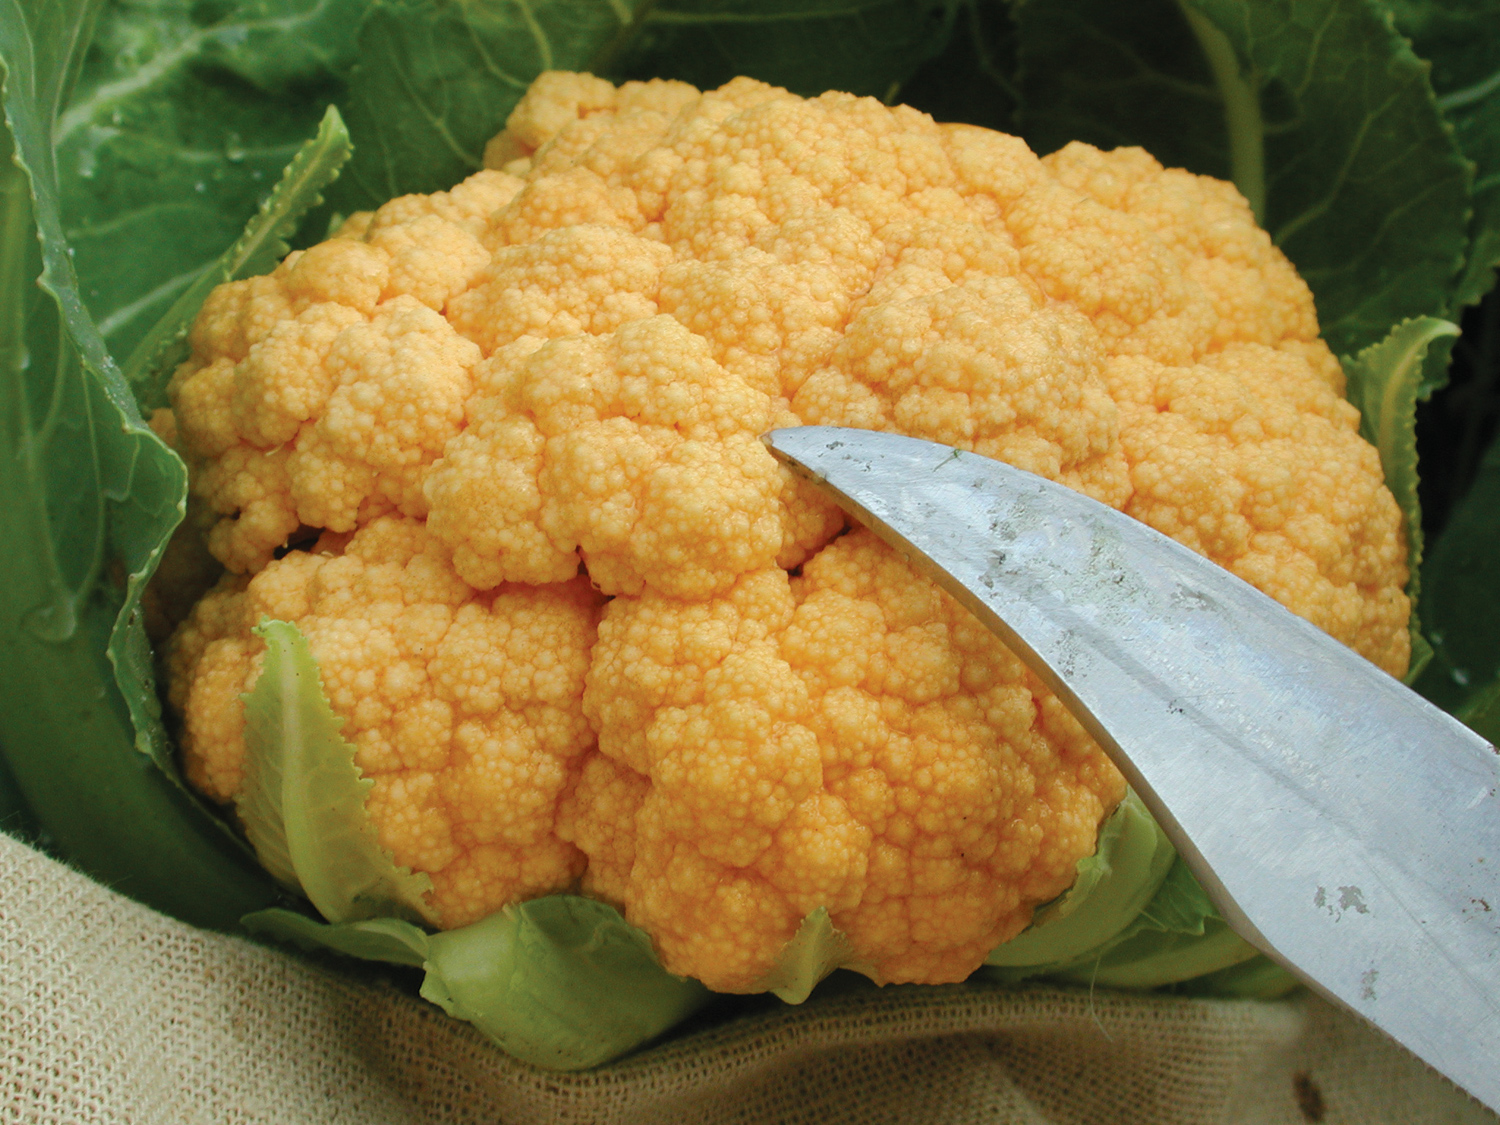cauliflower: (146, 73, 1409, 990)
